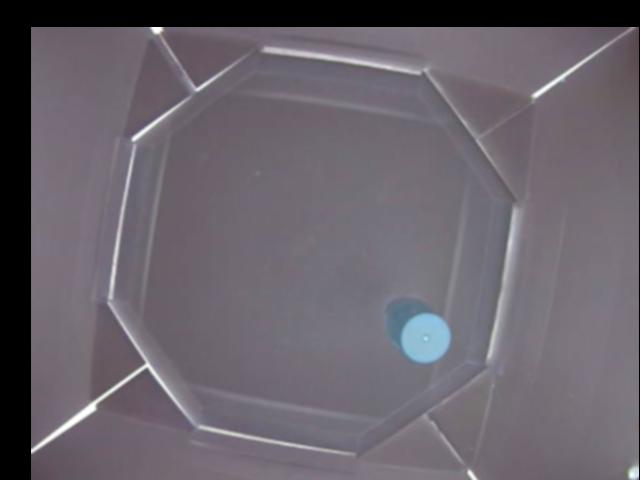Bottle: (384, 296, 450, 365)
